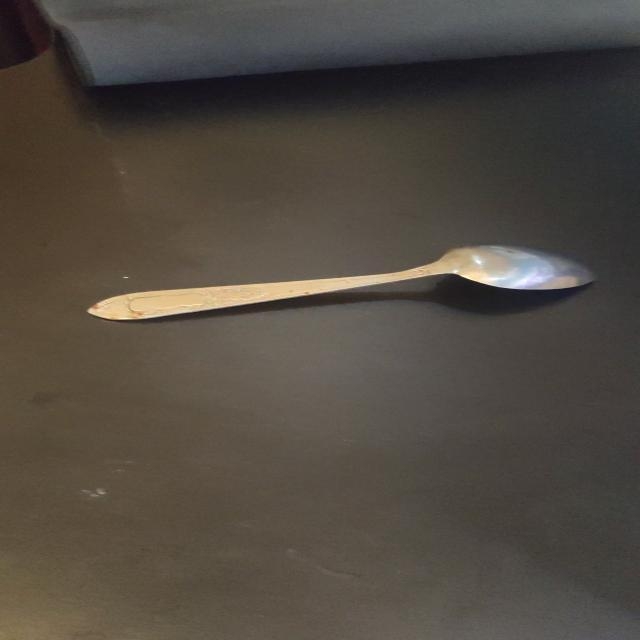plastic utensil: (89, 245, 593, 320)
